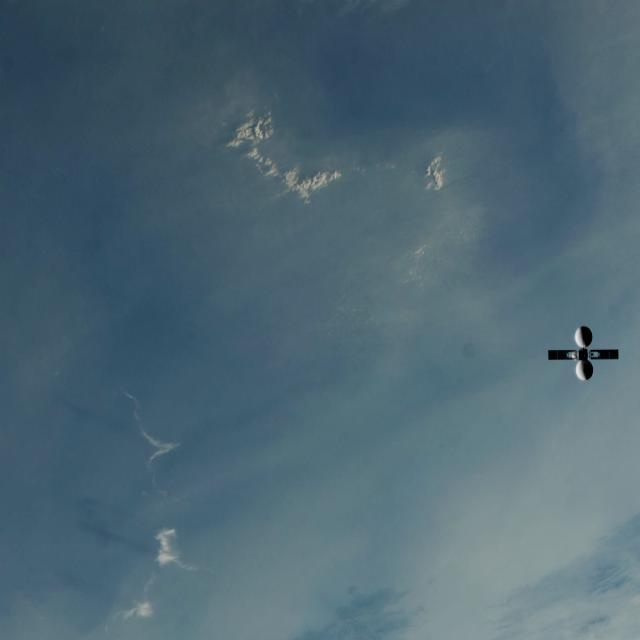satellite: (541, 323, 620, 389)
